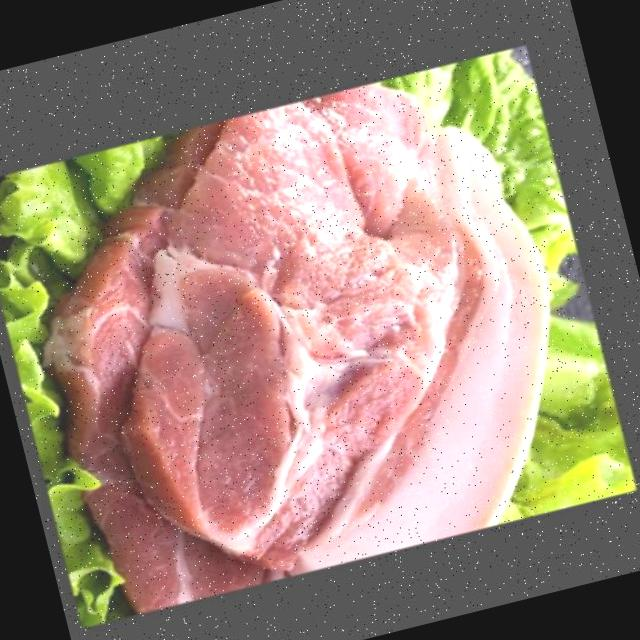pork: (15, 59, 594, 614)
